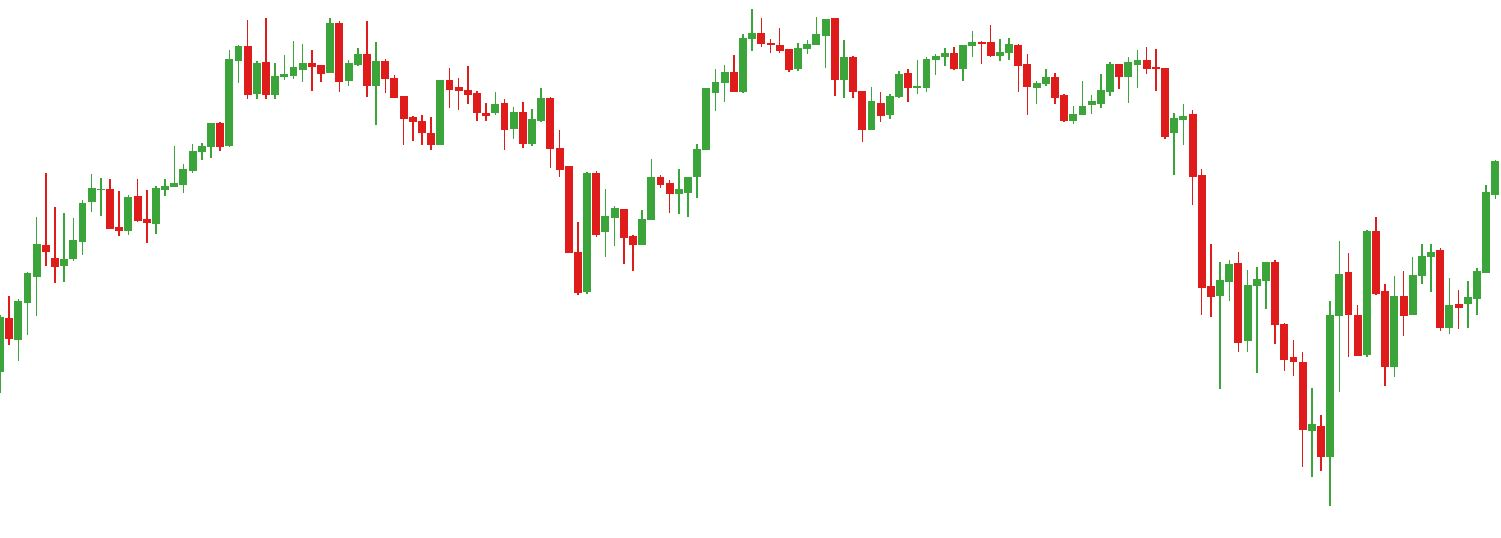sell: (261, 2, 344, 89)
